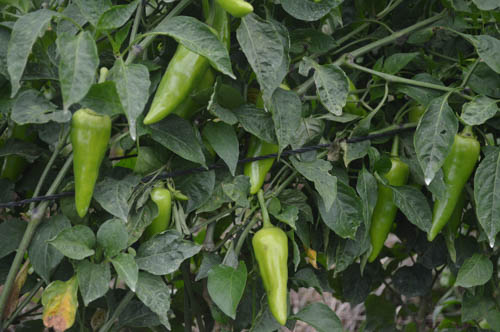ChiliPepper: (142, 37, 208, 125), (180, 10, 229, 120), (427, 136, 475, 239), (246, 82, 289, 195), (362, 158, 408, 262), (67, 110, 111, 216), (253, 230, 289, 324), (144, 190, 176, 243)
